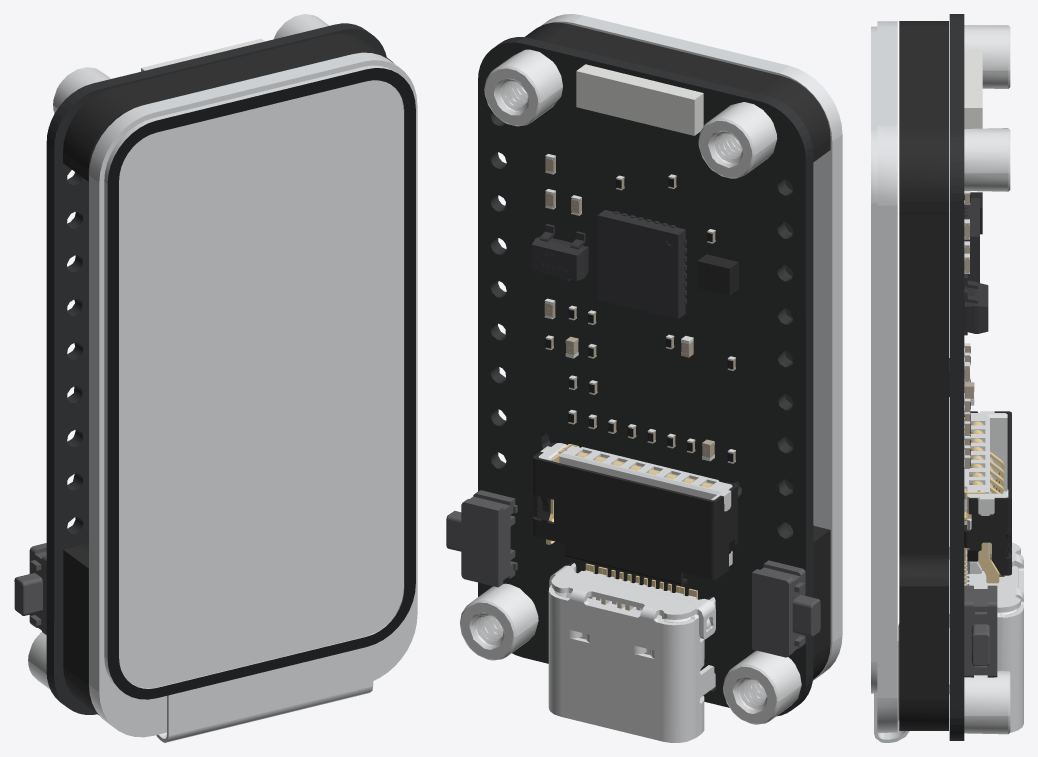
The model's file is esp32-c6-lcd-1.47.glb.
3 views of the same model, side by side, from view 1: azimuth 30°, elevation 25°; view 2: azimuth 150°, elevation 25°; view 3: azimuth 270°, elevation 25° (orthographic). The views are drawn at different scales.
Visible parts, largest first — view 1: lcd_frame, pcb, lcd_glass, internal, steel, button; view 2: pcb, steel, plastic, lcd_frame, internal, chip, button, antenna, ceramic, gold, smd_dark; view 3: internal, lcd_frame, steel, pcb, button, plastic, chip, gold, antenna, ceramic.
Boxes of the visible parts, x1,y1,x2,y2 form: lcd_frame: [89, 52, 417, 742]; pcb: [46, 23, 386, 714]; lcd_glass: [107, 68, 415, 699]; internal: [63, 33, 393, 715]; steel: [28, 14, 329, 689]; button: [14, 543, 46, 635]; pcb: [478, 37, 813, 716]; steel: [460, 49, 801, 742]; plastic: [533, 442, 737, 585]; lcd_frame: [541, 14, 842, 680]; internal: [524, 22, 830, 679]; chip: [531, 210, 686, 318]; button: [446, 490, 820, 657]; antenna: [576, 64, 703, 135]; ceramic: [544, 157, 735, 462]; gold: [546, 444, 713, 619]; smd_dark: [545, 178, 733, 461]; internal: [899, 21, 982, 730]; lcd_frame: [871, 21, 909, 742]; steel: [949, 25, 1023, 734]; pcb: [949, 14, 964, 740]; button: [964, 585, 997, 677]; plastic: [964, 411, 1011, 575]; chip: [964, 198, 988, 335]; gold: [964, 421, 1004, 585]; antenna: [964, 51, 982, 128]; ceramic: [964, 193, 974, 468].
Size of the model in its own units: 22.72 by 37.59 by 8.35.
